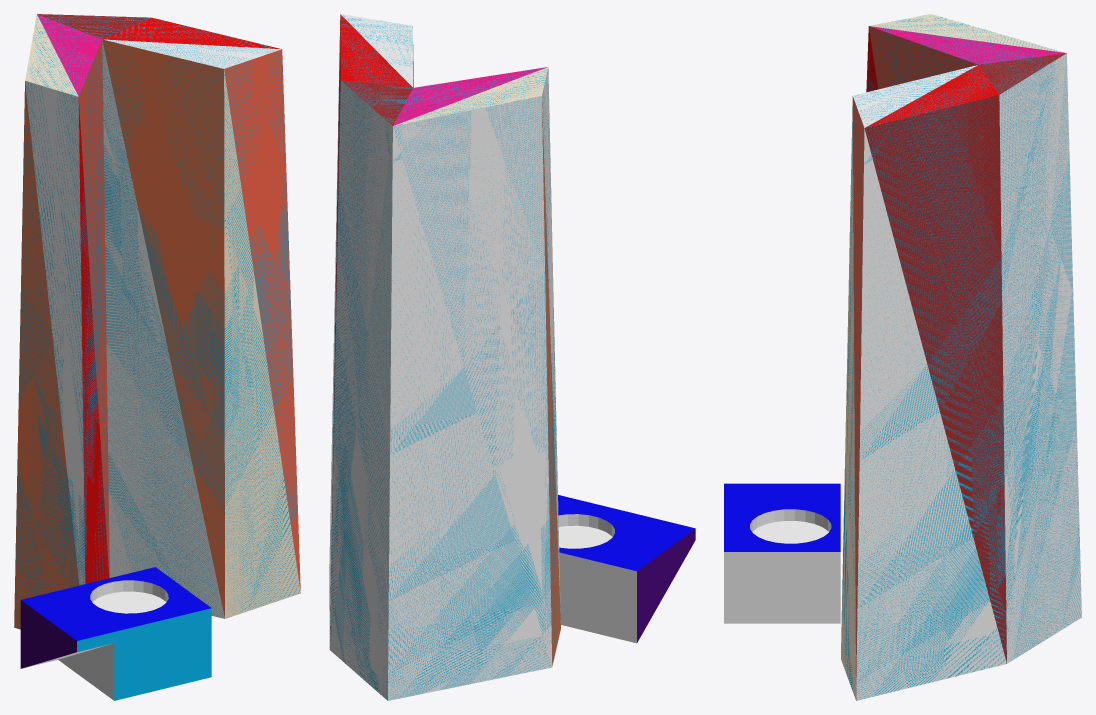
3 views of the same model, side by side, from view 1: azimuth 30°, elevation 25°; view 2: azimuth 150°, elevation 25°; view 3: azimuth 270°, elevation 25° (orthographic). The views are drawn at different scales.
Parts seen in each view (by area): view 1: SketchUp (×18); view 2: SketchUp (×13); view 3: SketchUp (×13).
Part boxes in pixels (x1,y1,x2,y2): SketchUp (×18): (14, 14, 300, 700); SketchUp (×13): (329, 14, 695, 700); SketchUp (×13): (724, 14, 1081, 700).
Bounding box in the file's own units: 168 × 175 × 305.
